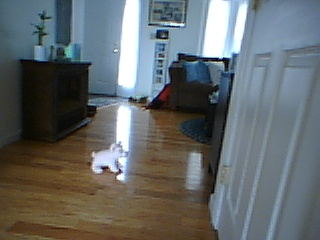piggy: (89, 141, 129, 175)
